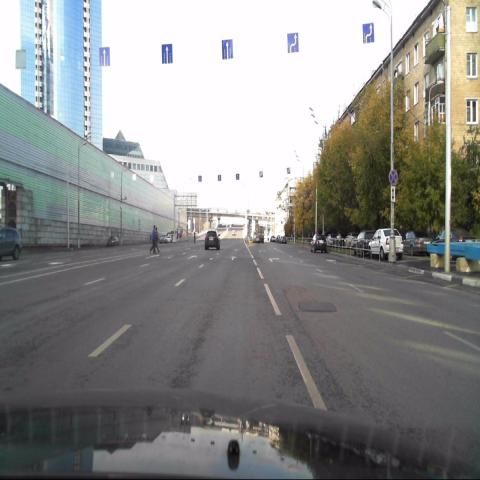5_15_2: (222, 38, 233, 60)
